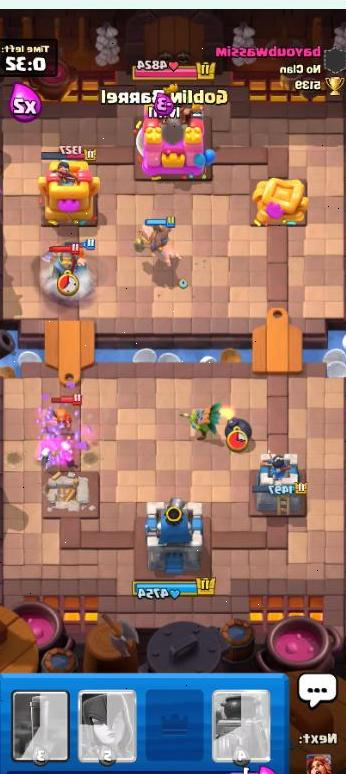enemy_bomb: (218, 406, 257, 454)
enemy_knight: (49, 244, 84, 286)
enemy_valkyrie: (47, 390, 87, 436)
player_dart_goblin: (178, 400, 223, 443)
player_hog_rider: (127, 212, 183, 270)
player_skeletons: (35, 443, 55, 468), (55, 438, 75, 463)
